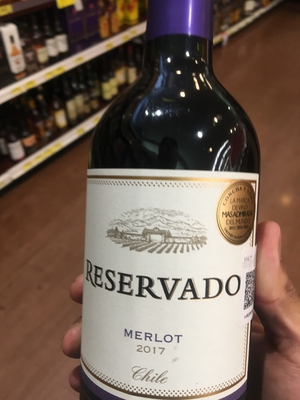reservado merlot: (78, 16, 256, 400)
